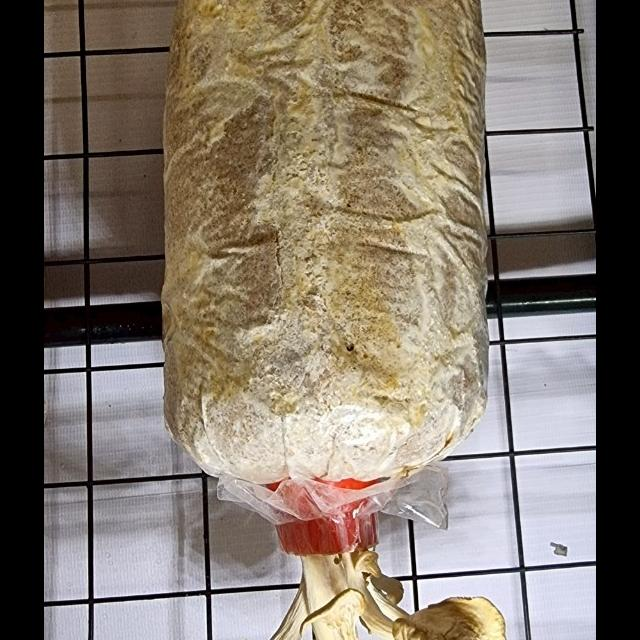abnormal: (352, 513, 536, 640), (144, 529, 320, 640), (290, 547, 406, 640)
